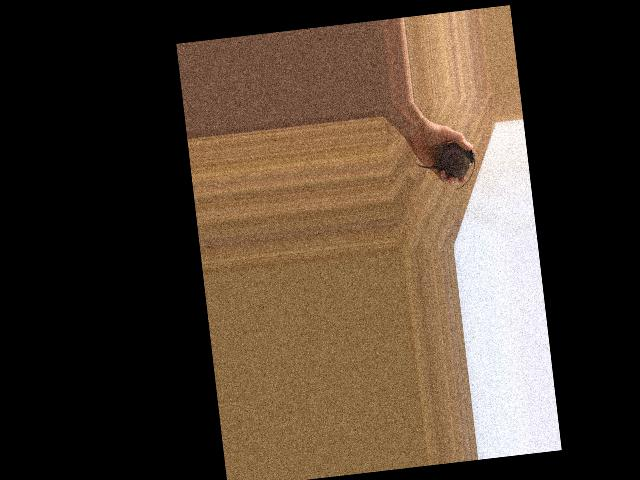beet: (414, 140, 478, 194)
